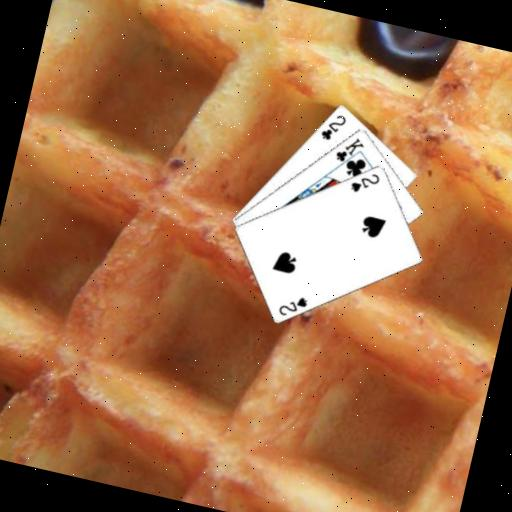2C: (317, 108, 349, 145)
2S: (346, 166, 383, 199), (275, 289, 311, 322)
KC: (330, 130, 368, 173)
